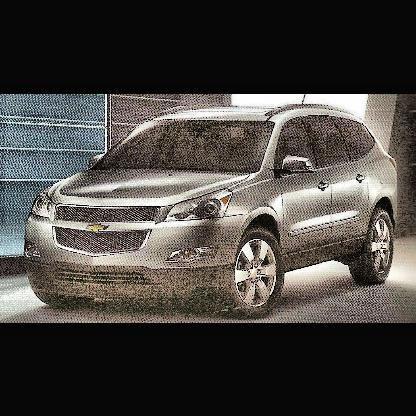Chevrolet Traverse SUV 2012: (22, 94, 402, 320)
